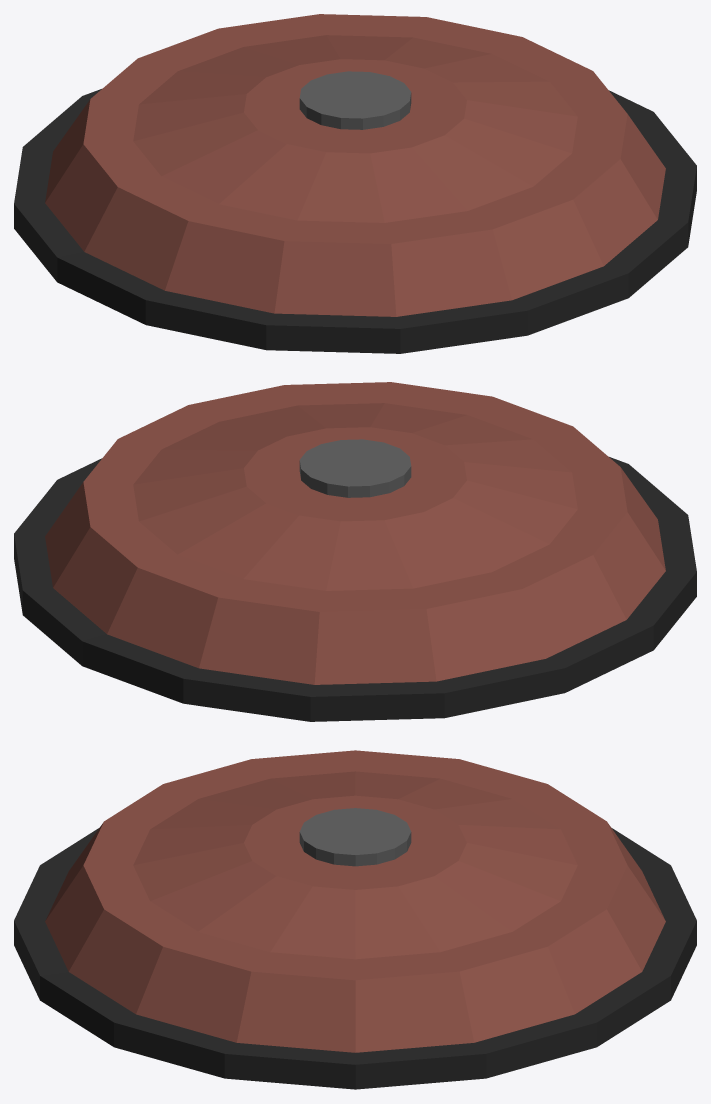
File: Shield_5_c_r.fbx
3 views of the same model, one above another, from view 1: azimuth 30°, elevation 25°; view 2: azimuth 150°, elevation 25°; view 3: azimuth 270°, elevation 25° (orthographic).
Parts seen in each view (by area): view 1: Circle.222, Circle.223, Circle.224; view 2: Circle.222, Circle.223, Circle.224; view 3: Circle.222, Circle.223, Circle.224.
Boxes of the visible parts, bbox=[...] form: Circle.222: bbox=[45, 14, 665, 316]; Circle.223: bbox=[14, 89, 696, 353]; Circle.224: bbox=[299, 71, 411, 129]; Circle.222: bbox=[45, 382, 665, 684]; Circle.223: bbox=[14, 457, 696, 721]; Circle.224: bbox=[299, 439, 411, 497]; Circle.222: bbox=[45, 750, 665, 1052]; Circle.223: bbox=[14, 828, 696, 1089]; Circle.224: bbox=[299, 808, 411, 866].
Bounding box in the file's own units: 55 × 16.06 × 55.
